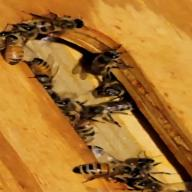Bee: (69, 158, 146, 184), (18, 52, 63, 94), (0, 27, 40, 70)
